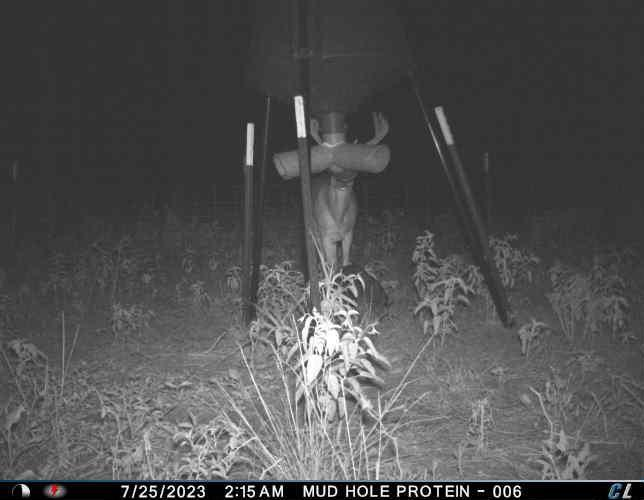Deer: (305, 109, 395, 278)
Raccoon: (324, 269, 395, 330)
